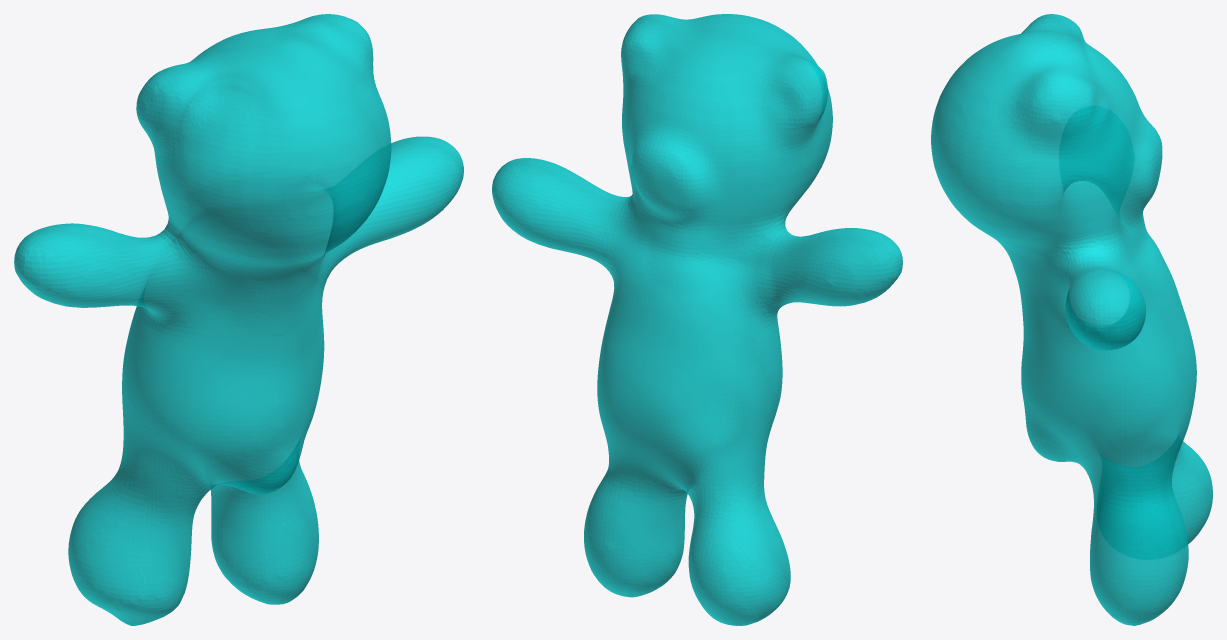
File: bearalpha.glb
The picture shows the model from 3 angles, left to right: view 1: azimuth 30°, elevation 25°; view 2: azimuth 150°, elevation 25°; view 3: azimuth 270°, elevation 25°; orthographic projection. The views are drawn at different scales.
Visible parts, largest first — view 1: Sphere; view 2: Sphere; view 3: Sphere.
Part boxes in pixels (x1,y1,x2,y2): Sphere: [14, 14, 463, 625]; Sphere: [492, 14, 902, 625]; Sphere: [931, 14, 1212, 625].
Bounding box in the file's own units: 6.69 × 8.79 × 4.04.
